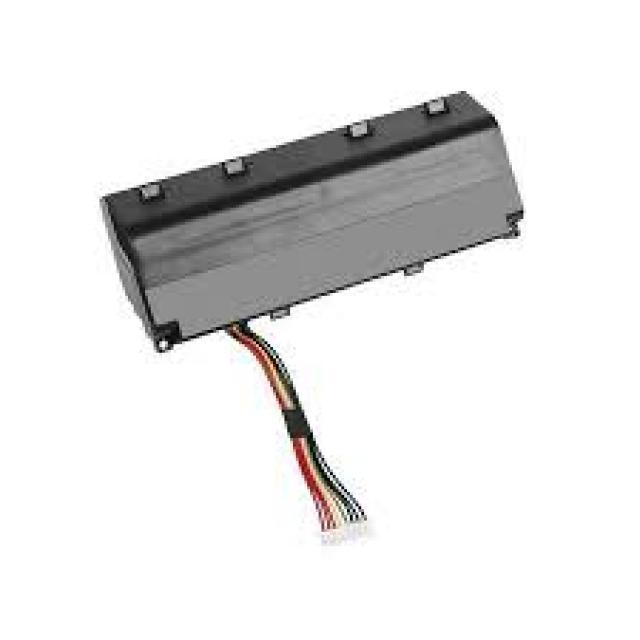battery: (100, 86, 528, 534)
